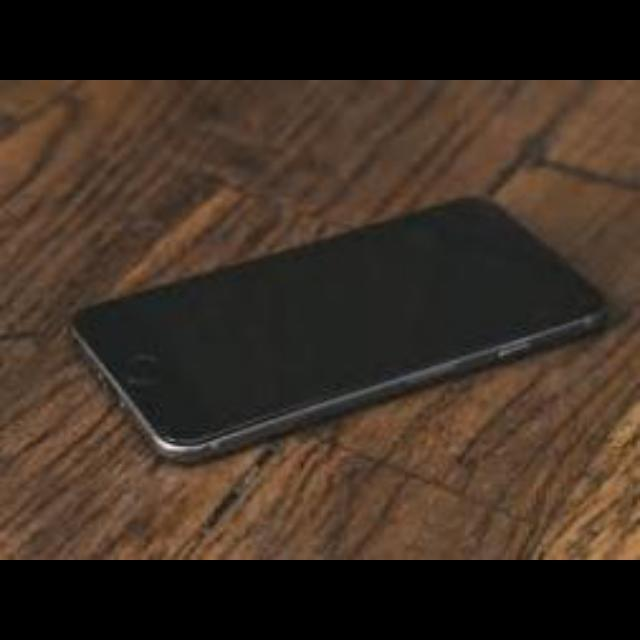Phone: (66, 194, 612, 466)
